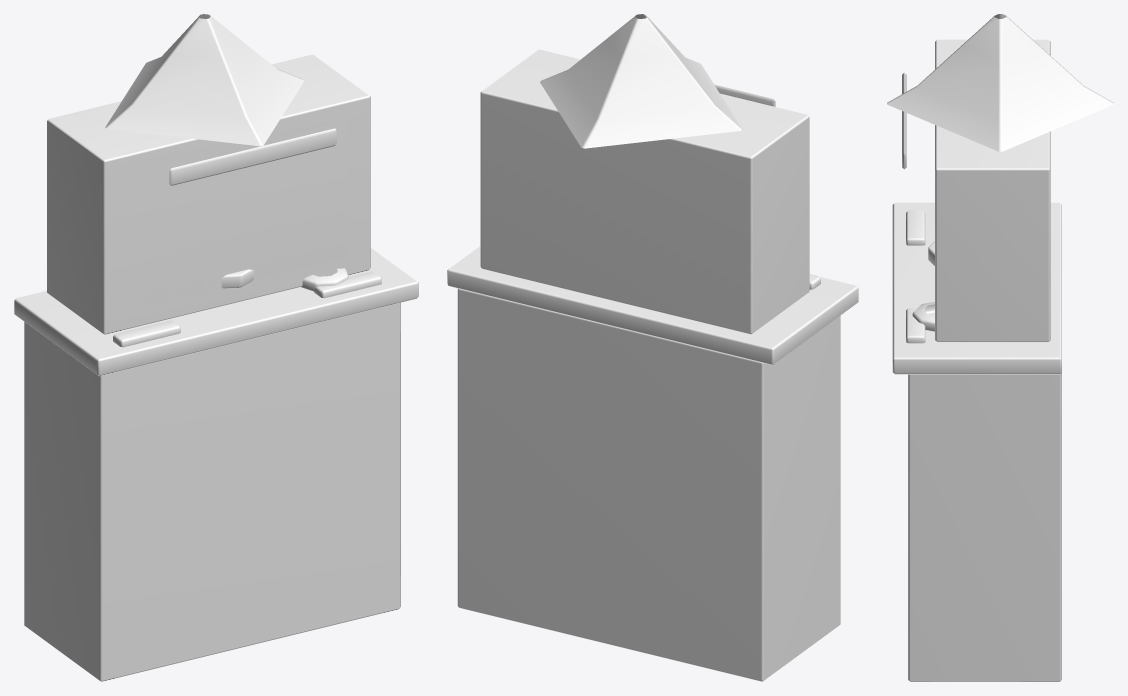
The model's file is mandir.glb.
3 renders of one model, left to right at view 1: azimuth 30°, elevation 25°; view 2: azimuth 150°, elevation 25°; view 3: azimuth 270°, elevation 25°, orthographic. The views are drawn at different scales.
Parts seen in each view (by area): view 1: Mandir; view 2: Mandir; view 3: Mandir.
Part boxes in pixels (box(x1,y1,x2,y2)): Mandir: box(14, 14, 418, 681); Mandir: box(447, 14, 858, 681); Mandir: box(887, 14, 1113, 681).
Bounding box in the file's own units: 0.96 × 1.7 × 0.5894.
1 material, 1 textured.
